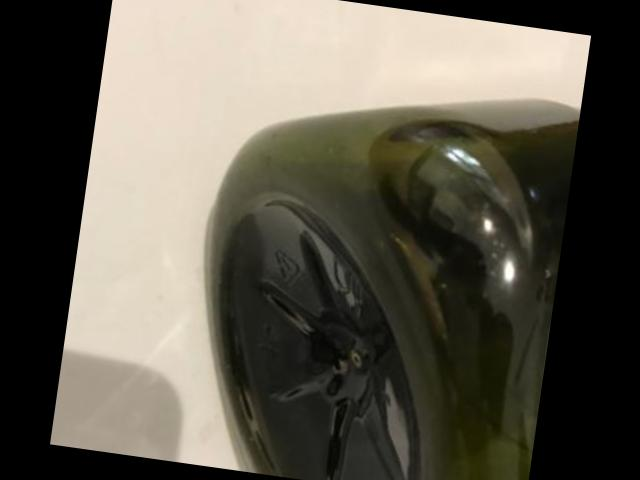plastic: (216, 100, 581, 480)
